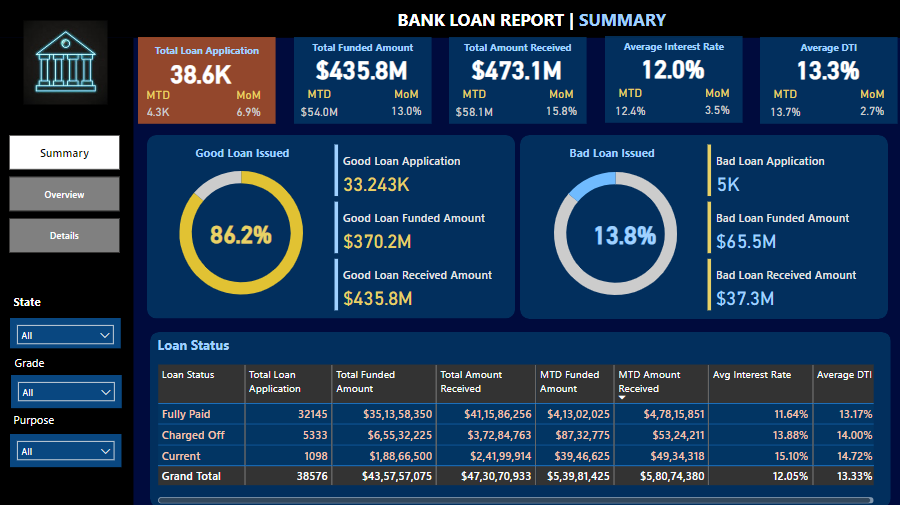

The dashboard page shown, as its layout file describes it:
{"tool":"powerbi","page":{"name":"Summary","canvas":[1280,720],"ordinal":0},"visuals":[{"type":"shape","box":[860.3,52.4,195,123.4],"z":0,"group":"g5"},{"type":"shape","box":[198.4,53.6,195,123.3],"z":0,"group":"g1"},{"type":"shape","box":[419.1,53.6,195,123.4],"z":0,"group":"g3"},{"type":"shape","box":[639.2,53.6,195,123.4],"z":0,"group":"g4"},{"type":"shape","box":[1079.3,53.6,195,123.4],"z":0,"group":"g6"},{"type":"shape","box":[739.8,192.8,521.6,260.8],"z":0},{"type":"card","title":"Total Loan Application","fields":{"Values":["bank_loan financial_loan.Avg Interest Rate"]},"box":[884.2,74.6,143.3,43.3],"z":1000,"group":"g5"},{"type":"card","title":"Total Loan Application","fields":{"Values":["bank_loan financial_loan.Total Funded Amount"]},"box":[443,75.8,143.3,43.3],"z":1000,"group":"g3"},{"type":"card","title":"Total Loan Application","fields":{"Values":["bank_loan financial_loan.Total Amount Received"]},"box":[663.1,75.8,143.3,43.3],"z":1000,"group":"g4"},{"type":"card","title":"Total Loan Application","fields":{"Values":["bank_loan financial_loan.Average DTI"]},"box":[1103.2,75.8,143.3,43.3],"z":1000,"group":"g6"},{"type":"card","title":"Total Loan Application","fields":{"Values":["bank_loan financial_loan.Total Loan Application"]},"box":[235.1,78.9,103.7,49.9],"z":1000,"group":"g1"},{"type":"shape","box":[211.7,193.2,521.7,260],"z":1000},{"type":"shape","box":[0,0,1279.8,55.3],"z":2000},{"type":"textbox","box":[860.3,52.4,195,33.4],"z":2000,"group":"g5"},{"type":"textbox","box":[419.1,53.6,195,33.4],"z":2000,"group":"g3"},{"type":"textbox","box":[639.2,53.6,195,33.4],"z":2000,"group":"g4"},{"type":"textbox","box":[1079.3,53.6,195,33.4],"z":2000,"group":"g6"},{"type":"textbox","box":[200.6,57.7,189.6,32.7],"z":2000,"group":"g1"},{"type":"group","id":"g1","title":"Group 1","box":[198.4,53.6,195,123.3],"z":3000,"group":"g2"},{"type":"shape","box":[0,55.3,192,664],"z":3000},{"type":"card","title":"MTD","fields":{"Values":["bank_loan financial_loan.MTD Avg Int Rate"]},"box":[860.9,123,71.7,53.3],"z":3000,"group":"g5"},{"type":"card","title":"MTD","fields":{"Values":["bank_loan financial_loan.MTD Funded Amount"]},"box":[419.7,124.2,71.7,53.3],"z":3000,"group":"g3"},{"type":"card","title":"MTD","fields":{"Values":["bank_loan financial_loan.MTD Amount Received"]},"box":[639.8,124.2,71.7,53.3],"z":3000,"group":"g4"},{"type":"card","title":"MTD","fields":{"Values":["bank_loan financial_loan.MTD Avg DTI"]},"box":[1079.9,124.2,71.7,53.3],"z":3000,"group":"g6"},{"type":"card","title":"MoM","fields":{"Values":["bank_loan financial_loan.MoM Loan Application"]},"box":[320.5,126.5,69.7,49.9],"z":3000,"group":"g1"},{"type":"group","id":"g2","title":"Group 2","box":[198.4,53.6,195.6,123.3],"z":4000},{"type":"card","title":"MoM","fields":{"Values":["bank_loan financial_loan.MoM Avg Int Rate"]},"box":[983.6,122.7,71.7,51],"z":4000,"group":"g5"},{"type":"card","title":"MoM","fields":{"Values":["bank_loan financial_loan.MoM Funded Amount"]},"box":[542.4,123.9,71.7,51],"z":4000,"group":"g3"},{"type":"card","title":"MoM","fields":{"Values":["bank_loan financial_loan.MoM Amount Received"]},"box":[762.5,123.9,71.7,51],"z":4000,"group":"g4"},{"type":"card","title":"MoM","fields":{"Values":["bank_loan financial_loan.MoM Avg DTI"]},"box":[1202.6,123.9,71.7,51],"z":4000,"group":"g6"},{"type":"card","title":"MTD","fields":{"Values":["bank_loan financial_loan.MTD Loan Application"]},"box":[198.9,126.4,56.9,50],"z":4000,"group":"g2"},{"type":"textbox","box":[275,201.7,168.3,33.3],"z":5000},{"type":"group","id":"g3","title":"Group 1","box":[419.1,53.6,195,123.9],"z":6000},{"type":"group","id":"g4","title":"Group 1","box":[639.2,53.6,195,123.3],"z":7000},{"type":"group","id":"g5","title":"Group 1","box":[860.3,52.4,195.6,123.3],"z":8000},{"type":"group","id":"g6","title":"Group 1","box":[1079.3,53.6,195,123.3],"z":9000},{"type":"donutChart","fields":{"Category":["bank_loan financial_loan.Good vs Bad Loan"],"Y":["bank_loan financial_loan.Total Loan Application"]},"box":[220,216.7,250,229],"z":10000},{"type":"card","title":"Total Loan Application","fields":{"Values":["bank_loan financial_loan.Good loan %"]},"box":[279.2,310.4,130.4,42.5],"z":11000},{"type":"cardVisual","fields":{"Data":["bank_loan financial_loan.Good Loan Application","bank_loan financial_loan.Good Loan Funded Amount","bank_loan financial_loan.Good Loan Received Amount"]},"box":[472,201.3,246.6,245.2],"z":12000},{"type":"donutChart","fields":{"Category":["bank_loan financial_loan.Good vs Bad Loan"],"Y":["bank_loan financial_loan.Total Loan Application"]},"box":[749.8,218.3,250.9,228.2],"z":13000},{"type":"card","title":"Total Loan Application","fields":{"Values":["bank_loan financial_loan.Bad loan %"]},"box":[827.7,310.4,120.5,42.5],"z":14000},{"type":"textbox","box":[805,201.7,151.7,33.3],"z":15000},{"type":"cardVisual","fields":{"Data":["bank_loan financial_loan.Bad Loan Application","bank_loan financial_loan.Bad Loan Funded Amount","bank_loan financial_loan.Bad Loan Received Amount"]},"box":[1000.6,201.3,246.6,245.2],"z":16000},{"type":"shape","box":[215,471.7,1050,248.3],"z":17000},{"type":"tableEx","fields":{"Values":["bank_loan financial_loan.loan_status","bank_loan financial_loan.Total Loan Application","bank_loan financial_loan.Total Funded Amount","bank_loan financial_loan.Total Amount Received","bank_loan financial_loan.MTD Funded Amount","bank_loan financial_loan.MTD Amount Received","bank_loan financial_loan.Avg Interest Rate","bank_loan financial_loan.Average DTI"]},"box":[221.7,513.3,1025,206.7],"z":18000},{"type":"textbox","box":[221.7,471.7,260,41.7],"z":19000},{"type":"slicer","fields":{"Values":["bank_loan financial_loan.address_state"]},"box":[17,452.1,157.3,42.5],"z":20000},{"type":"textbox","box":[17,412.4,62.4,34],"z":21000},{"type":"slicer","fields":{"Values":["bank_loan financial_loan.grade"]},"box":[18.4,532.9,157.3,46.8],"z":22000},{"type":"textbox","box":[18.4,498.9,73.7,34],"z":23000},{"type":"slicer","fields":{"Values":["bank_loan financial_loan.purpose"]},"box":[16.7,616.7,158.3,46.7],"z":24000},{"type":"textbox","box":[17,579.7,90.7,34],"z":25000},{"type":"textbox","box":[561.3,7.1,409.6,43.9],"z":26000},{"type":"pageNavigator","box":[15.6,192.8,157.3,167.2],"z":27000},{"type":"image","box":[31.2,25.5,129,129],"z":28000}]}

Visuals, with their boxes in screenshot pixels (x1, y1, x2, y2), scaled from the page's 1280x720 canvas onto the 900x505 screenshot:
shape: Rect(605, 37, 742, 123)
shape: Rect(140, 38, 277, 124)
shape: Rect(295, 38, 432, 124)
shape: Rect(449, 38, 587, 124)
shape: Rect(759, 38, 896, 124)
shape: Rect(520, 135, 887, 318)
"Total Loan Application" card: Rect(622, 52, 722, 83)
"Total Loan Application" card: Rect(311, 53, 412, 84)
"Total Loan Application" card: Rect(466, 53, 567, 84)
"Total Loan Application" card: Rect(776, 53, 876, 84)
"Total Loan Application" card: Rect(165, 55, 238, 90)
shape: Rect(149, 136, 516, 318)
shape: Rect(0, 0, 899, 39)
textbox: Rect(605, 37, 742, 60)
textbox: Rect(295, 38, 432, 61)
textbox: Rect(449, 38, 587, 61)
textbox: Rect(759, 38, 896, 61)
textbox: Rect(141, 40, 274, 63)
"Group 1" group: Rect(140, 38, 277, 124)
shape: Rect(0, 39, 135, 504)
"MTD" card: Rect(605, 86, 656, 124)
"MTD" card: Rect(295, 87, 346, 124)
"MTD" card: Rect(450, 87, 500, 124)
"MTD" card: Rect(759, 87, 810, 124)
"MoM" card: Rect(225, 89, 274, 124)
"Group 2" group: Rect(140, 38, 277, 124)
"MoM" card: Rect(692, 86, 742, 122)
"MoM" card: Rect(381, 87, 432, 123)
"MoM" card: Rect(536, 87, 587, 123)
"MoM" card: Rect(846, 87, 896, 123)
"MTD" card: Rect(140, 89, 180, 124)
textbox: Rect(193, 141, 312, 165)
"Group 1" group: Rect(295, 38, 432, 124)
"Group 1" group: Rect(449, 38, 587, 124)
"Group 1" group: Rect(605, 37, 742, 123)
"Group 1" group: Rect(759, 38, 896, 124)
donutChart - bank_loan financial_loan.Good vs Bad Loan x bank_loan financial_loan.Total Loan Application: Rect(155, 152, 330, 313)
"Total Loan Application" card: Rect(196, 218, 288, 248)
cardVisual - bank_loan financial_loan.Good Loan Application x bank_loan financial_loan.Good Loan Funded Amount: Rect(332, 141, 505, 313)
donutChart - bank_loan financial_loan.Good vs Bad Loan x bank_loan financial_loan.Total Loan Application: Rect(527, 153, 704, 313)
"Total Loan Application" card: Rect(582, 218, 667, 248)
textbox: Rect(566, 141, 673, 165)
cardVisual - bank_loan financial_loan.Bad Loan Application x bank_loan financial_loan.Bad Loan Funded Amount: Rect(704, 141, 877, 313)
shape: Rect(151, 331, 889, 504)
tableEx - bank_loan financial_loan.loan_status x bank_loan financial_loan.Total Loan Application: Rect(156, 360, 877, 504)
textbox: Rect(156, 331, 339, 360)
slicer - bank_loan financial_loan.address_state: Rect(12, 317, 123, 347)
textbox: Rect(12, 289, 56, 313)
slicer - bank_loan financial_loan.grade: Rect(13, 374, 124, 407)
textbox: Rect(13, 350, 65, 374)
slicer - bank_loan financial_loan.purpose: Rect(12, 433, 123, 465)
textbox: Rect(12, 407, 76, 430)
textbox: Rect(395, 5, 683, 36)
pageNavigator: Rect(11, 135, 122, 252)
image: Rect(22, 18, 113, 108)
